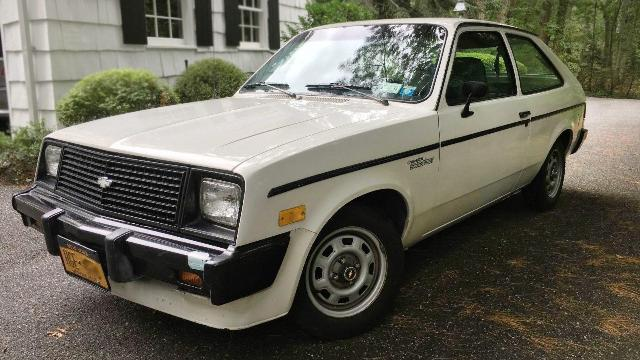chevette-1983: (12, 18, 588, 339)
